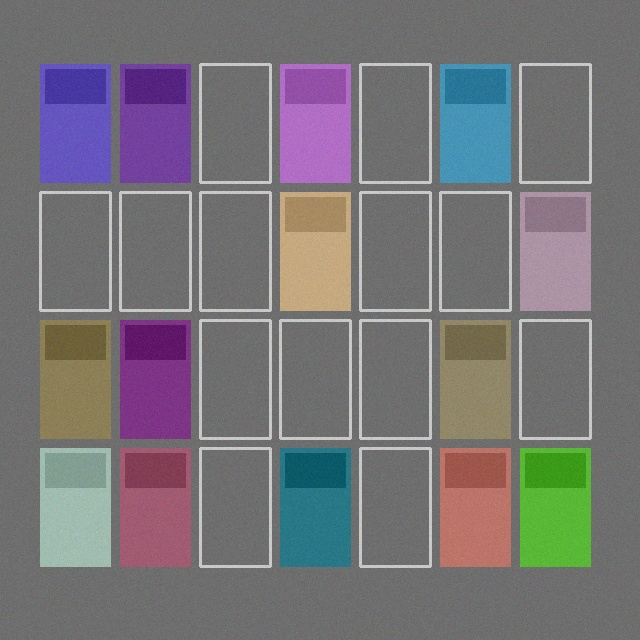space-empty: (200, 64, 270, 182), (360, 64, 430, 182), (520, 64, 590, 182), (40, 192, 110, 310), (120, 192, 190, 310), (200, 192, 270, 310), (360, 192, 430, 310), (440, 192, 510, 310), (200, 320, 270, 438), (280, 320, 350, 438), (360, 320, 430, 438), (520, 320, 590, 438), (200, 448, 270, 566), (360, 448, 430, 566)
space-occupied: (40, 64, 110, 182), (120, 64, 190, 182), (280, 64, 350, 182), (440, 64, 510, 182), (280, 192, 350, 310), (520, 192, 590, 310), (40, 320, 110, 438), (120, 320, 190, 438), (440, 320, 510, 438), (40, 448, 110, 566), (120, 448, 190, 566), (280, 448, 350, 566), (440, 448, 510, 566), (520, 448, 590, 566)
